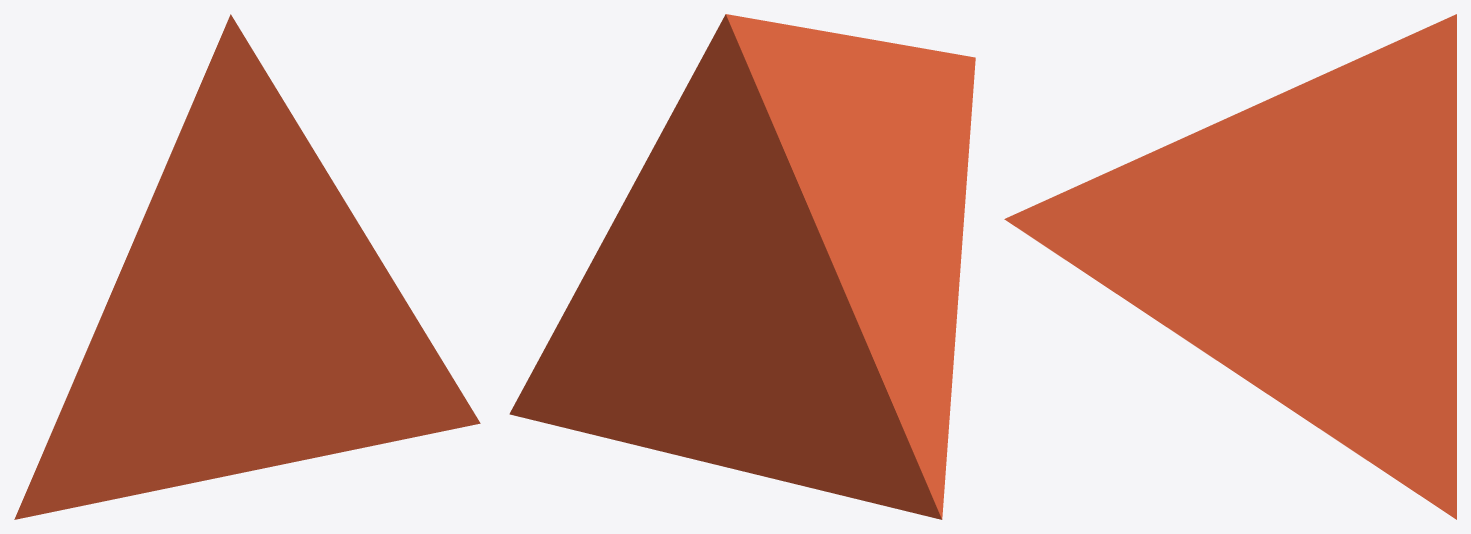
The model's file is sceneview_contract_tetrahedron.gltf.
3 renders of one model, left to right at view 1: azimuth 30°, elevation 25°; view 2: azimuth 150°, elevation 25°; view 3: azimuth 270°, elevation 25°, orthographic. The views are drawn at different scales.
Size of the model in its own units: 1 by 1 by 1.
